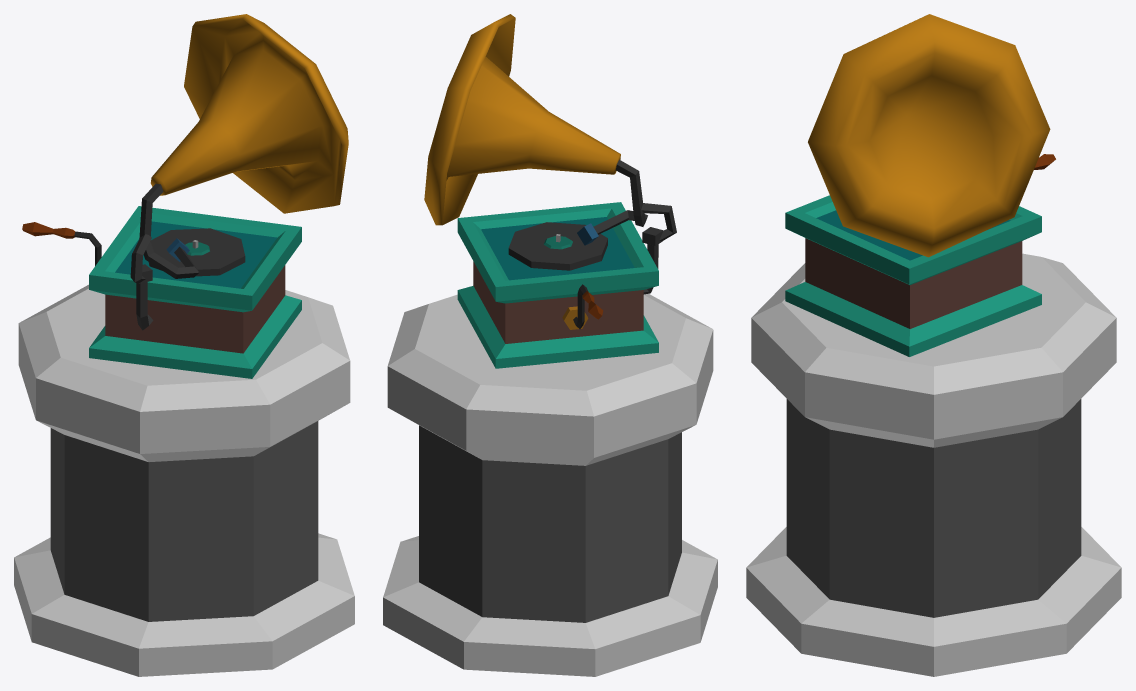
File: maynghenhac.fbx
3 renders of one model, left to right at view 1: azimuth 30°, elevation 25°; view 2: azimuth 150°, elevation 25°; view 3: azimuth 270°, elevation 25°, orthographic. The views are drawn at different scales.
Visible parts, largest first — view 1: maynghenhac; view 2: maynghenhac; view 3: maynghenhac.
Boxes of the visible parts, x1,y1,x2,y2 form: maynghenhac: [14, 14, 354, 676]; maynghenhac: [383, 14, 717, 676]; maynghenhac: [746, 14, 1121, 676].
Bounding box in the file's own units: 203 × 367 × 203.
